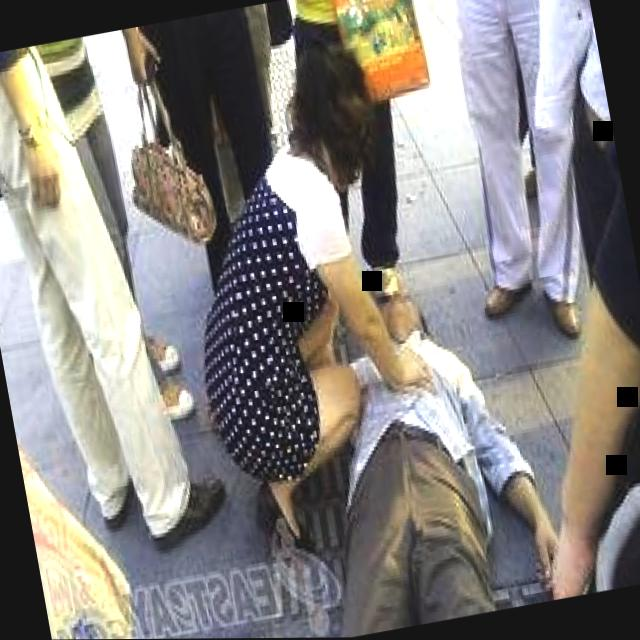Fall-Detected: (246, 239, 573, 639)
